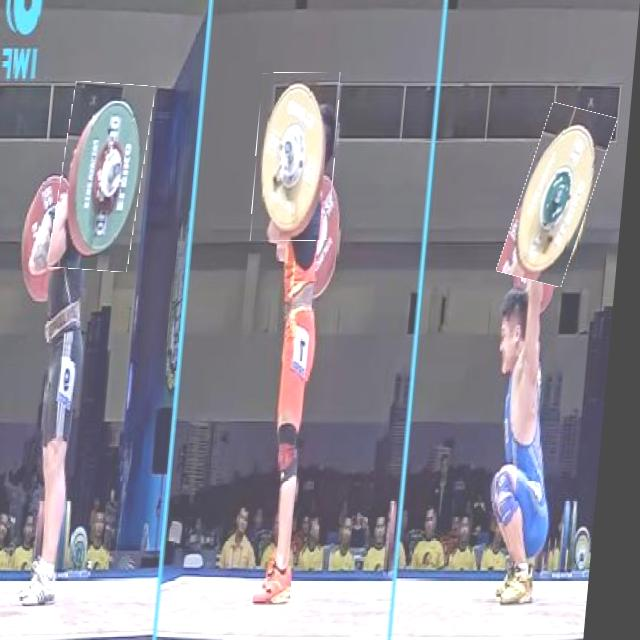barbell: (56, 84, 155, 272), (511, 106, 612, 285), (254, 74, 344, 242)
